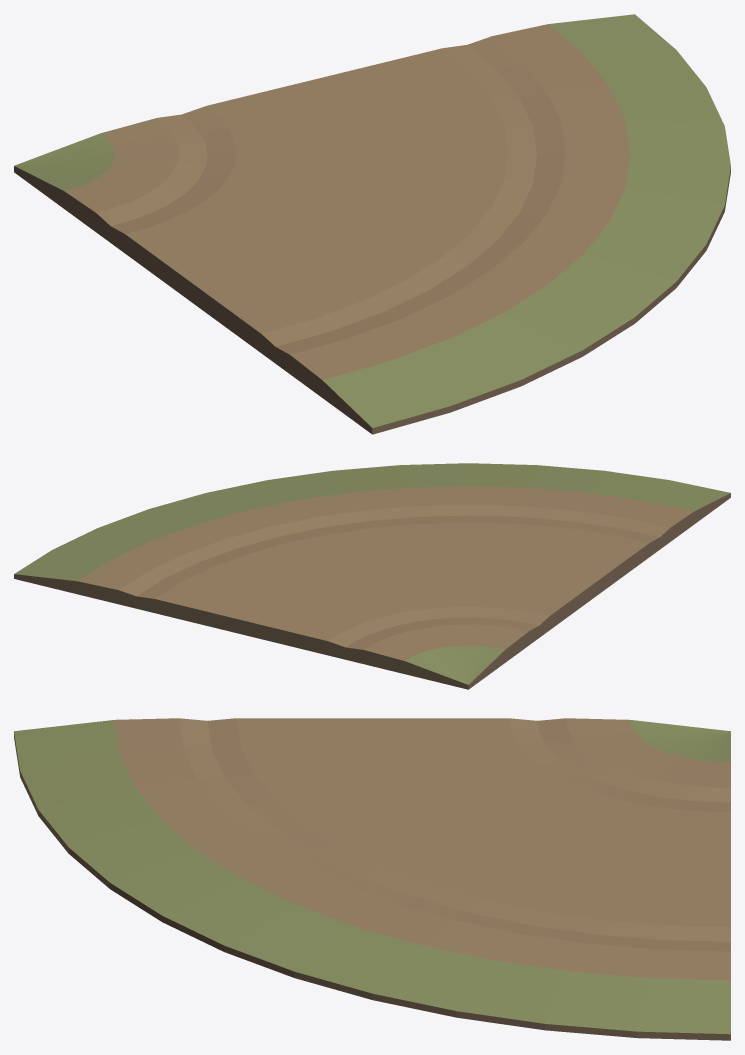
3 renders of one model, top to bottom at view 1: azimuth 30°, elevation 25°; view 2: azimuth 150°, elevation 25°; view 3: azimuth 270°, elevation 25°, orthographic. The views are drawn at different scales.
Visible parts, largest first — view 1: village-soil-road-curve-90deg-01; view 2: village-soil-road-curve-90deg-01; view 3: village-soil-road-curve-90deg-01.
Boxes of the visible parts, x1=… form: village-soil-road-curve-90deg-01: x1=14, y1=14, x2=730, y2=434; village-soil-road-curve-90deg-01: x1=14, y1=463, x2=730, y2=689; village-soil-road-curve-90deg-01: x1=14, y1=718, x2=730, y2=1040.
Size of the model in its own units: 2 by 0.06 by 2.
